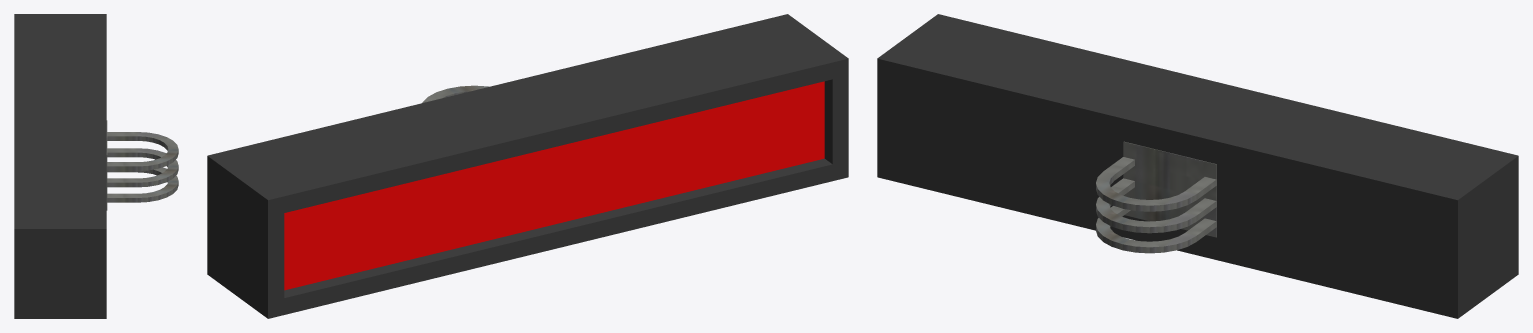
Rendered from display-mensagens.fbx.
3 views of the same model, side by side, from view 1: azimuth 30°, elevation 25°; view 2: azimuth 150°, elevation 25°; view 3: azimuth 270°, elevation 25° (orthographic). The views are drawn at different scales.
Parts seen in each view (by area): view 1: Componente_10_1, Al_a1, Al_a3, Al_a2, Componente_1_1; view 2: Componente_10_1; view 3: Componente_10_1, Componente_1_1, Al_a1, Al_a3, Al_a2.
Part boxes in pixels (bbox=[...]): Componente_10_1: bbox=[14, 14, 106, 318]; Al_a1: bbox=[107, 132, 178, 170]; Al_a3: bbox=[107, 148, 178, 187]; Al_a2: bbox=[107, 167, 178, 202]; Componente_1_1: bbox=[106, 120, 107, 210]; Componente_10_1: bbox=[207, 14, 848, 318]; Componente_10_1: bbox=[877, 14, 1518, 318]; Componente_1_1: bbox=[1123, 141, 1216, 237]; Al_a1: bbox=[1096, 157, 1216, 211]; Al_a3: bbox=[1096, 178, 1216, 233]; Al_a2: bbox=[1096, 206, 1216, 253].
Size of the model in its own units: 655 by 195 by 953.
